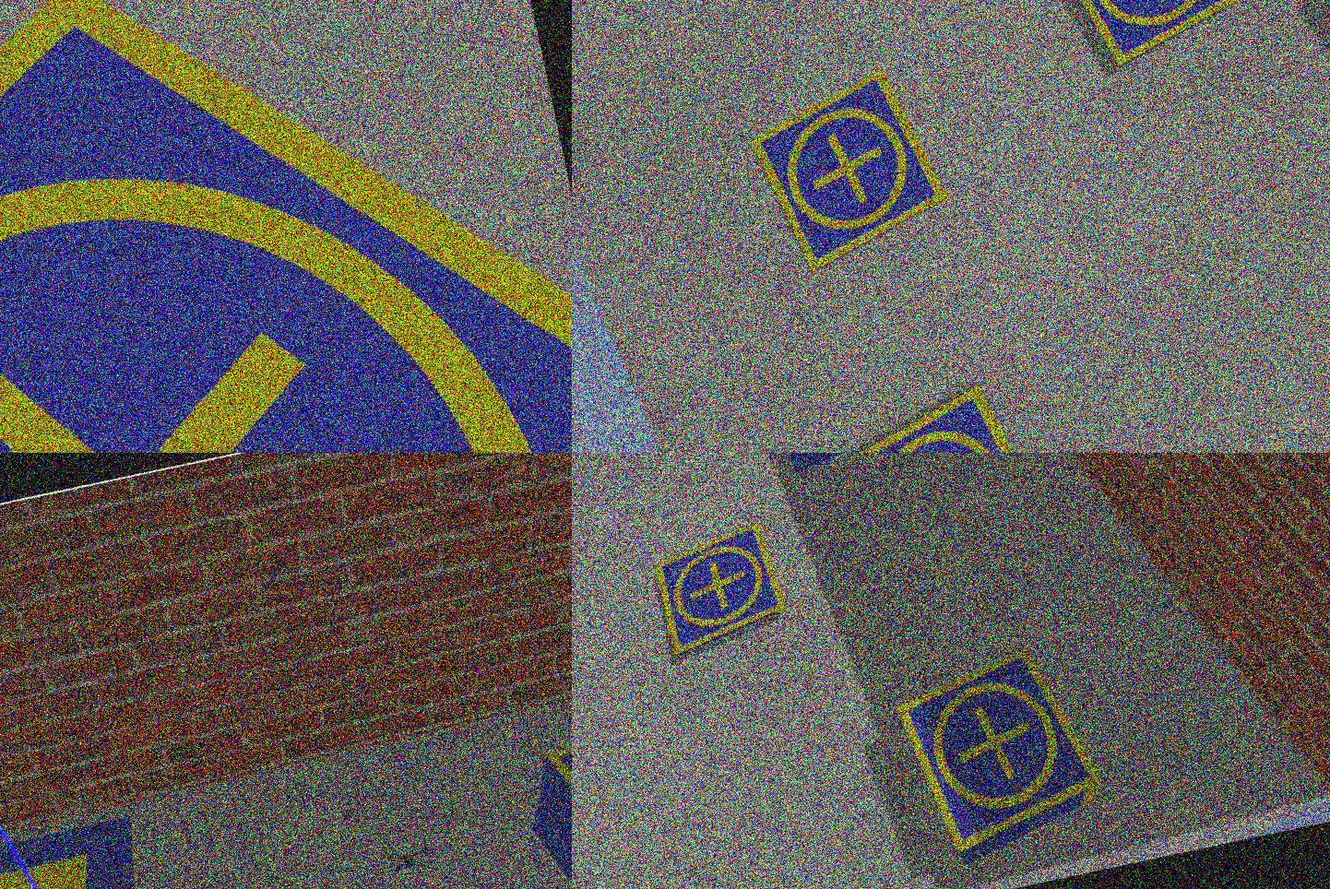small_base: (1, 1, 573, 454), (739, 61, 962, 280), (894, 641, 1114, 860), (645, 519, 792, 661), (830, 376, 1062, 454), (1043, 1, 1255, 77)
